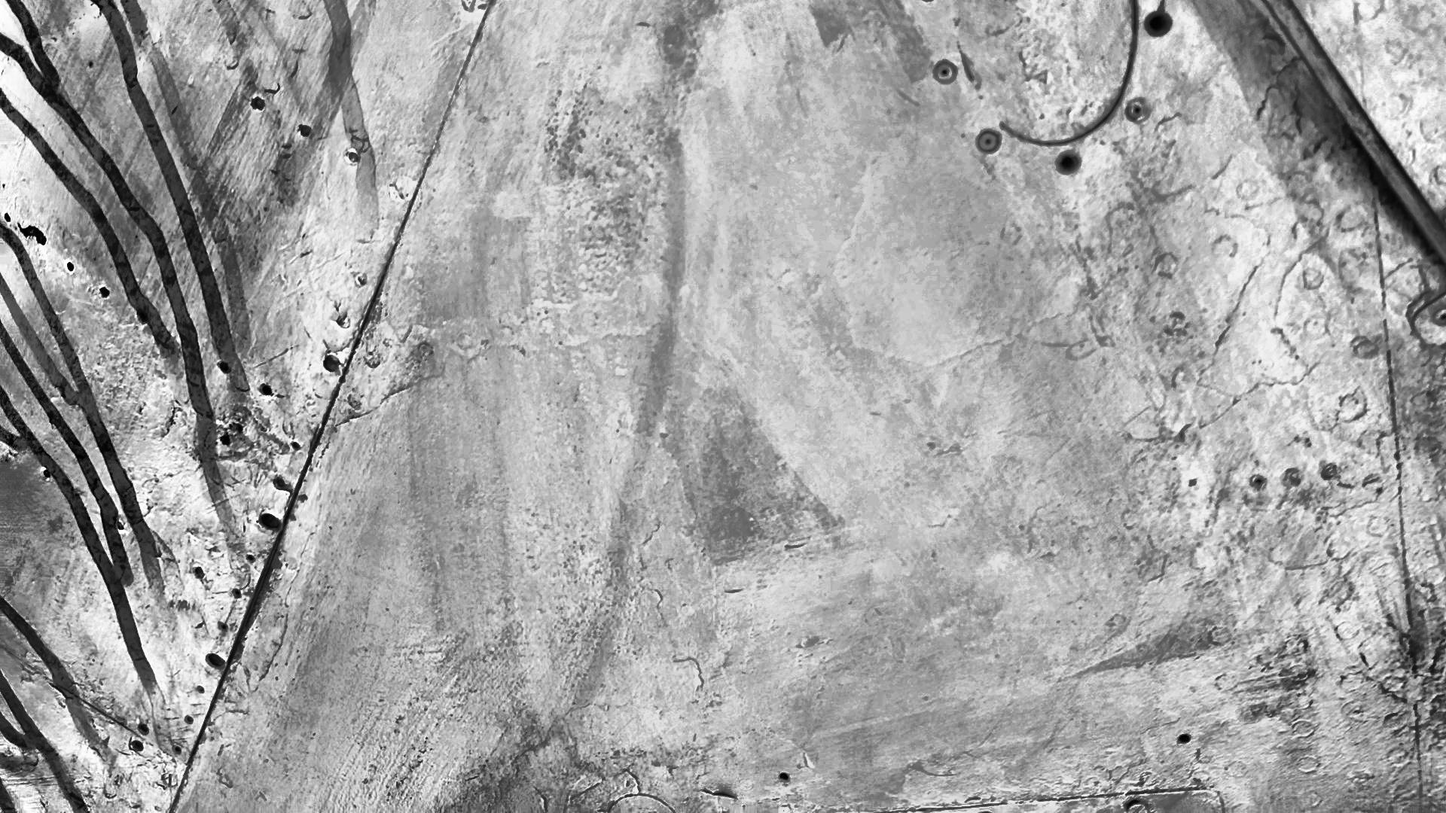missing-head: (1145, 11, 1171, 36), (1056, 151, 1079, 175), (322, 354, 339, 375), (262, 512, 281, 529), (207, 651, 226, 668), (64, 260, 79, 275), (260, 384, 275, 397), (132, 740, 145, 755), (143, 309, 153, 326), (275, 476, 286, 491), (220, 361, 233, 373), (288, 440, 301, 452), (230, 589, 245, 598), (143, 723, 153, 736), (173, 745, 185, 755), (220, 621, 228, 634), (245, 553, 254, 563)
paint-peel-off: (19, 222, 49, 247)
